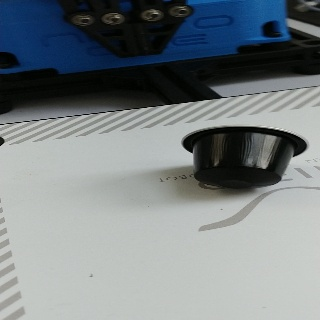capsule_10: (180, 124, 311, 190)
